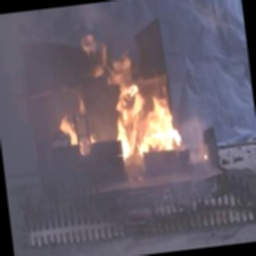fire: (83, 22, 189, 175)
